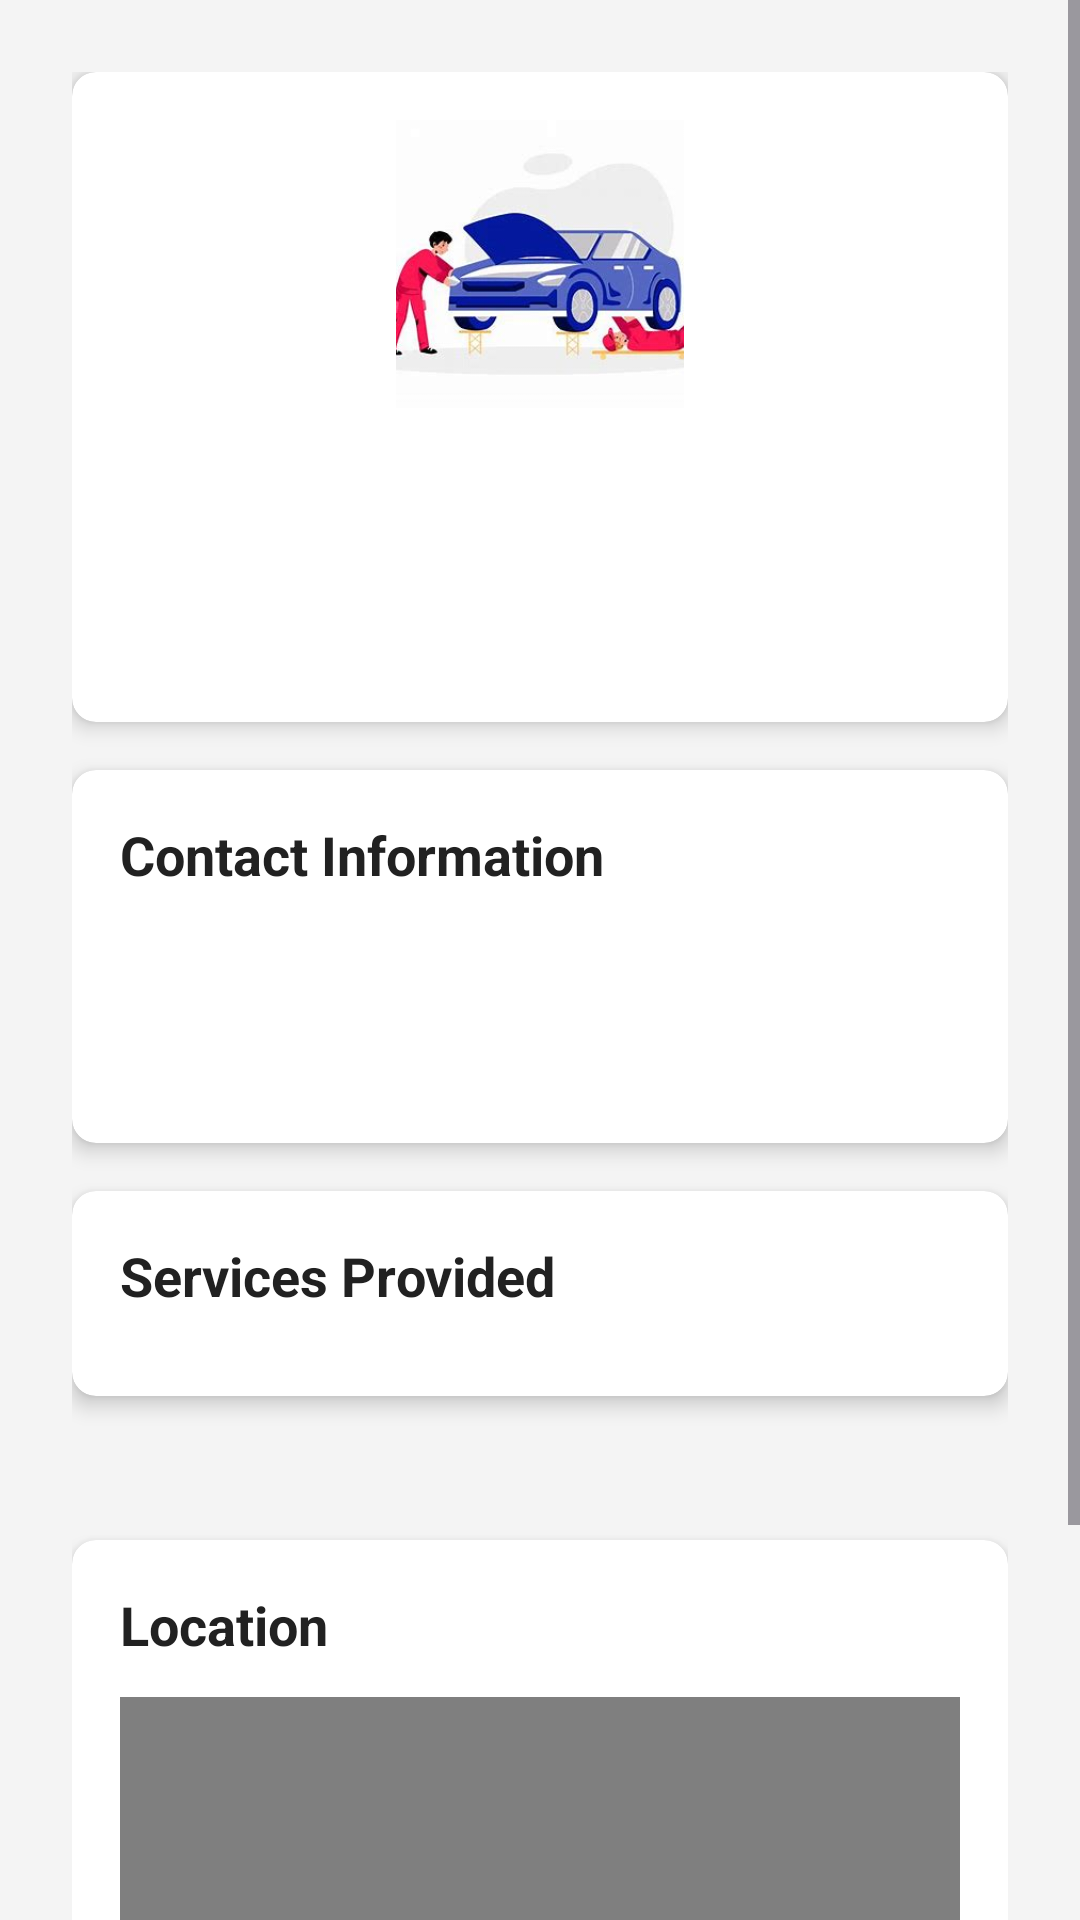

Point at icon controls on the screen. Image size 1080x1920, points as point (x, y).
mechanic: point (540, 284)
